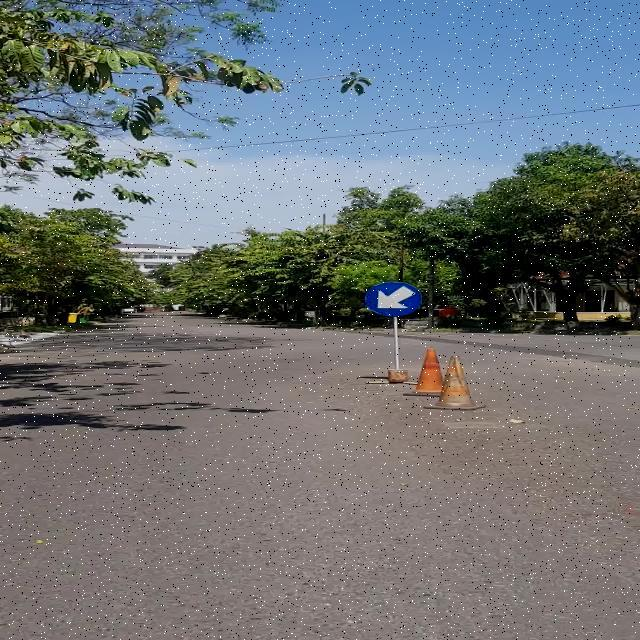Lajur Kiri: (366, 282, 420, 316)
